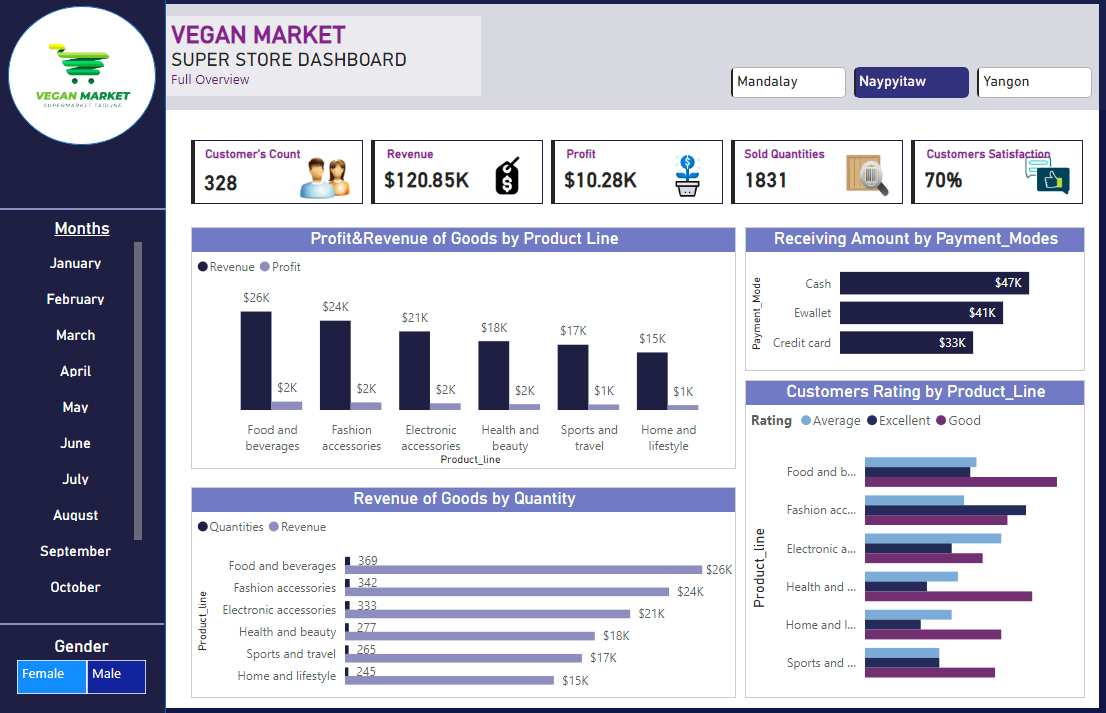

The dashboard page shown, as its layout file describes it:
{"tool":"powerbi","page":{"name":"Page 1","canvas":[1110,720],"ordinal":0},"visuals":[{"type":"shape","box":[0,0,1110,720],"z":0},{"type":"shape","box":[0,0,168.9,720],"z":1000},{"type":"shape","box":[168.9,0,941.1,114.4],"z":2000},{"type":"shape","box":[11.2,10,147.5,138.8],"z":3000},{"type":"image","box":[2.8,0,166.6,160],"z":4000},{"type":"cardVisual","fields":{"Data":["CountNonNull(Customer.Invoice_ID)","Sum(Product.Sold_Price)","Sum(Product.Goods_Profit)","Sum(Product.Quantity)","Customer.Positive_Rating"]},"box":[189,139,904,74],"z":5000},{"type":"textbox","box":[169,20,315,80],"z":6000},{"type":"textbox","box":[194.4,143.3,893.3,26.7],"z":7000},{"type":"advancedSlicerVisual","fields":{"Values":["Customer.City"]},"box":[728.9,65.6,372.2,41.1],"z":8000},{"type":"shape","box":[2.2,204.4,166.7,17.8],"z":9000},{"type":"advancedSlicerVisual","fields":{"Values":["Product.Months"]},"box":[20,222,130,384],"z":10000},{"type":"shape","box":[0,619,167,18],"z":11000},{"type":"clusteredColumnChart","title":"Profit&Revenue of Goods by Product Line","fields":{"Category":["Product.Product_line"],"Y":["Sum(Product.Sold_Price)","Sum(Product.Goods_Profit)"]},"box":[194.4,231.1,544.4,242.2],"z":12000},{"type":"treemap","title":"Gender","fields":{"Group":["Customer.Gender"],"Values":["CountNonNull(Customer.Invoice_ID)"]},"box":[15.2,640,139,62.9],"z":13000},{"type":"clusteredBarChart","title":"Revenue of Goods by Quantity","fields":{"Category":["Product.Product_line"],"Y":["Sum(Product.Quantity)","Sum(Product.Sold_Price)"]},"box":[194.4,491.1,544.4,211.1],"z":14000},{"type":"barChart","title":"Receiving Amount by Payment_Modes","fields":{"Category":["Product.Payment_Mode"],"Y":["Sum(Product.Sold_Price)"]},"box":[748,231,340,144],"z":15000},{"type":"clusteredBarChart","title":"Customers Rating by Product_Line","fields":{"Category":["Product.Product_line"],"Series":["Customer.Customers_Rating"],"Y":["CountNonNull(Customer.Invoice_ID)"]},"box":[748,384,340,318],"z":16000}]}

Visuals, with their boxes in screenshot pixels (x1, y1, x2, y2), scaled from the page's 1110x720 canvas onto the 1106x713 screenshot:
shape: rect(0, 0, 1105, 712)
shape: rect(0, 0, 168, 712)
shape: rect(168, 0, 1105, 113)
shape: rect(11, 10, 158, 147)
image: rect(3, 0, 169, 158)
cardVisual - CountNonNull(Customer.Invoice_ID) x Sum(Product.Sold_Price): rect(188, 138, 1089, 211)
textbox: rect(168, 20, 482, 99)
textbox: rect(194, 142, 1084, 168)
advancedSlicerVisual - Customer.City: rect(726, 65, 1097, 106)
shape: rect(2, 202, 168, 220)
advancedSlicerVisual - Product.Months: rect(20, 220, 149, 600)
shape: rect(0, 613, 166, 631)
"Profit&Revenue of Goods by Product Line" clusteredColumnChart: rect(194, 229, 736, 469)
"Gender" treemap: rect(15, 634, 154, 696)
"Revenue of Goods by Quantity" clusteredBarChart: rect(194, 486, 736, 695)
"Receiving Amount by Payment_Modes" barChart: rect(745, 229, 1084, 371)
"Customers Rating by Product_Line" clusteredBarChart: rect(745, 380, 1084, 695)
